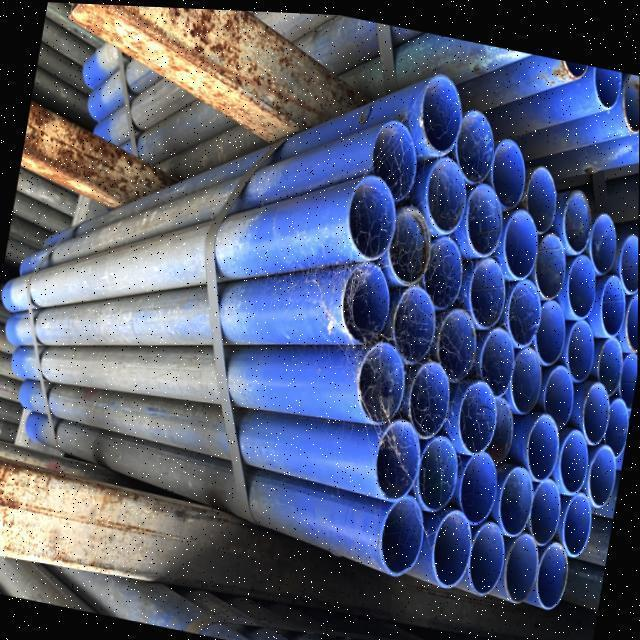pipe: (341, 257, 393, 343), (382, 280, 435, 361), (369, 116, 419, 201), (347, 171, 396, 256), (359, 339, 407, 423), (420, 225, 462, 315), (383, 200, 429, 282), (379, 487, 424, 570), (433, 498, 478, 581), (433, 297, 478, 379), (421, 152, 467, 232), (375, 417, 422, 495), (451, 102, 495, 183), (463, 506, 505, 589), (406, 354, 451, 431), (418, 69, 461, 148), (456, 373, 500, 450), (517, 157, 557, 241), (495, 200, 538, 275), (489, 132, 525, 221), (458, 443, 499, 521), (417, 431, 459, 507), (466, 252, 509, 324), (497, 457, 536, 536), (465, 175, 504, 254), (532, 221, 572, 295), (531, 464, 565, 549), (477, 319, 516, 393), (543, 352, 576, 436), (506, 272, 544, 343), (507, 337, 543, 409), (525, 407, 561, 476), (536, 289, 568, 366), (536, 537, 572, 605), (585, 202, 619, 273), (559, 180, 594, 248), (564, 313, 598, 379), (486, 387, 516, 461), (577, 372, 607, 446), (566, 247, 598, 313), (560, 486, 592, 550), (506, 529, 536, 594), (557, 424, 586, 487), (600, 266, 627, 332), (594, 328, 622, 391), (588, 438, 615, 501), (605, 392, 630, 452), (617, 342, 638, 405), (619, 225, 639, 287), (620, 67, 640, 128), (621, 281, 638, 343), (594, 63, 618, 106)
